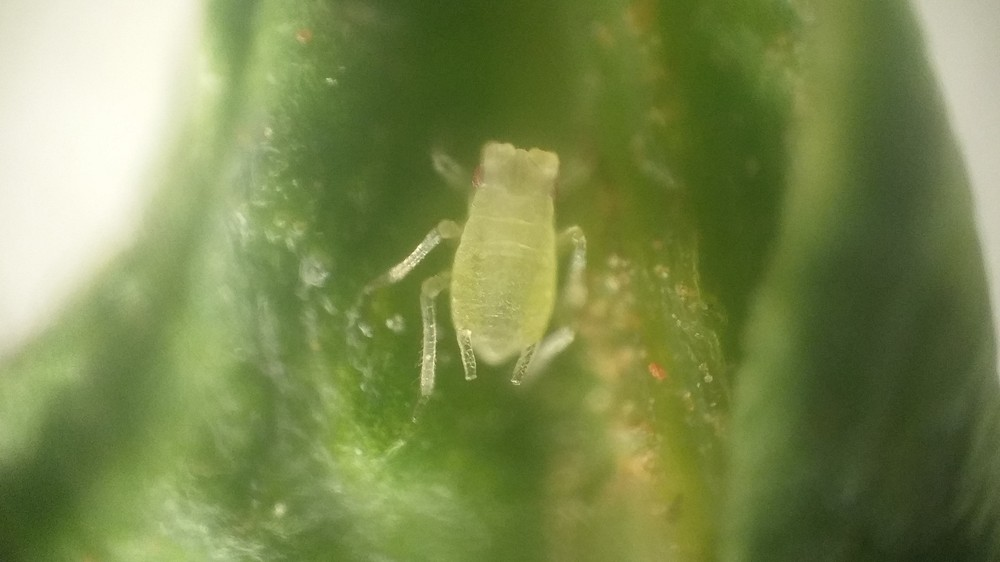Pulgon: (348, 117, 639, 406)
